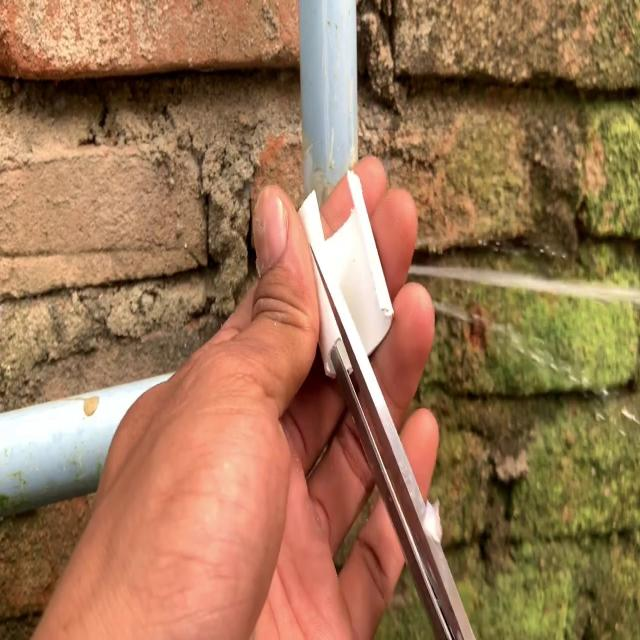leak: (435, 300, 640, 426), (408, 265, 640, 307)
